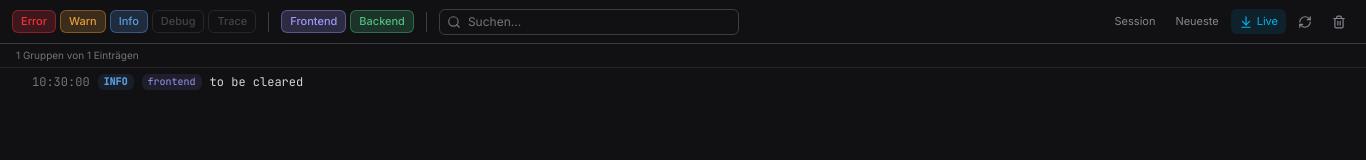
Scenario: LogViewer — toolbar interactions › wipes the on-disk log and clears the view after confirm
expect the text "to be cleared" is shown: met, box [210, 74, 303, 90]
Click the button titled "Logs leeren": click(1339, 22) [1324, 9, 1354, 34]
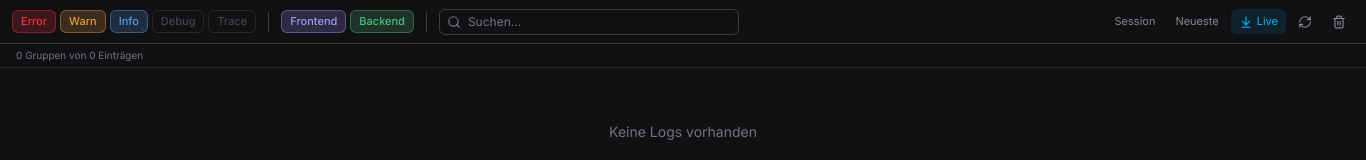
expect the text "Keine Logs vorhanden" is shown: met, box [609, 123, 757, 140]
